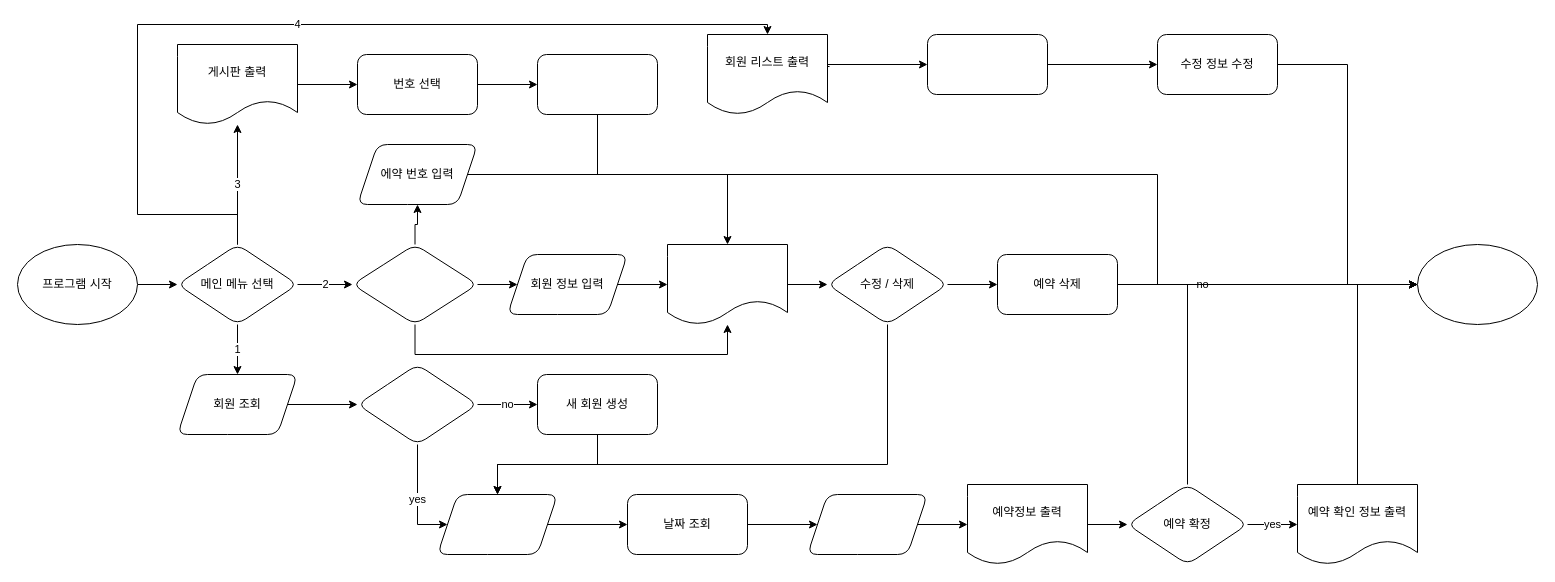
Image size: 1555x582. Some labels were removed from this diagram. The shapes that lost their labels are listed below. From the top down, each one's centre as x and y in pixels, then its label:
At [597,84]: "답변 입력 및 수정".
At [987,64]: "수정할 회원 선택".
At [415,284]: "조회 방법 선택".
At [727,284]: "전체 조회 내역 출력".
At [1477,284]: "종료".
At [417,404]: "탐색 유무".
At [497,524]: "날짜 입력".
At [867,524]: "사이즈 및 인원 선택".
